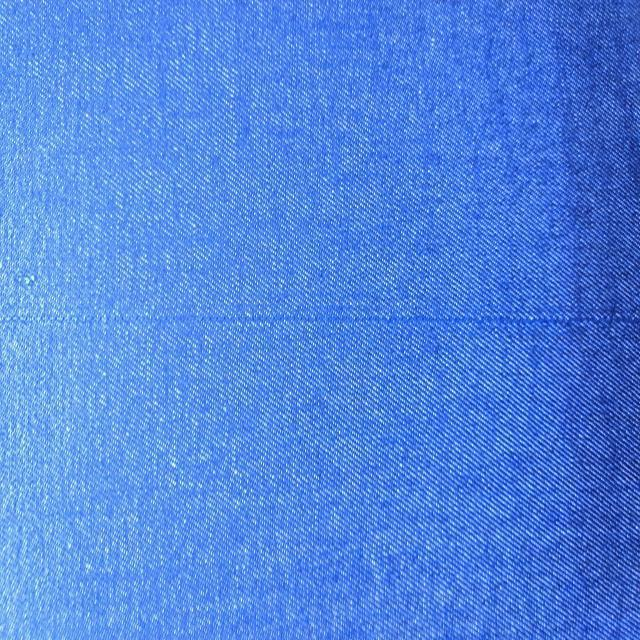Line: (0, 312, 639, 329)
